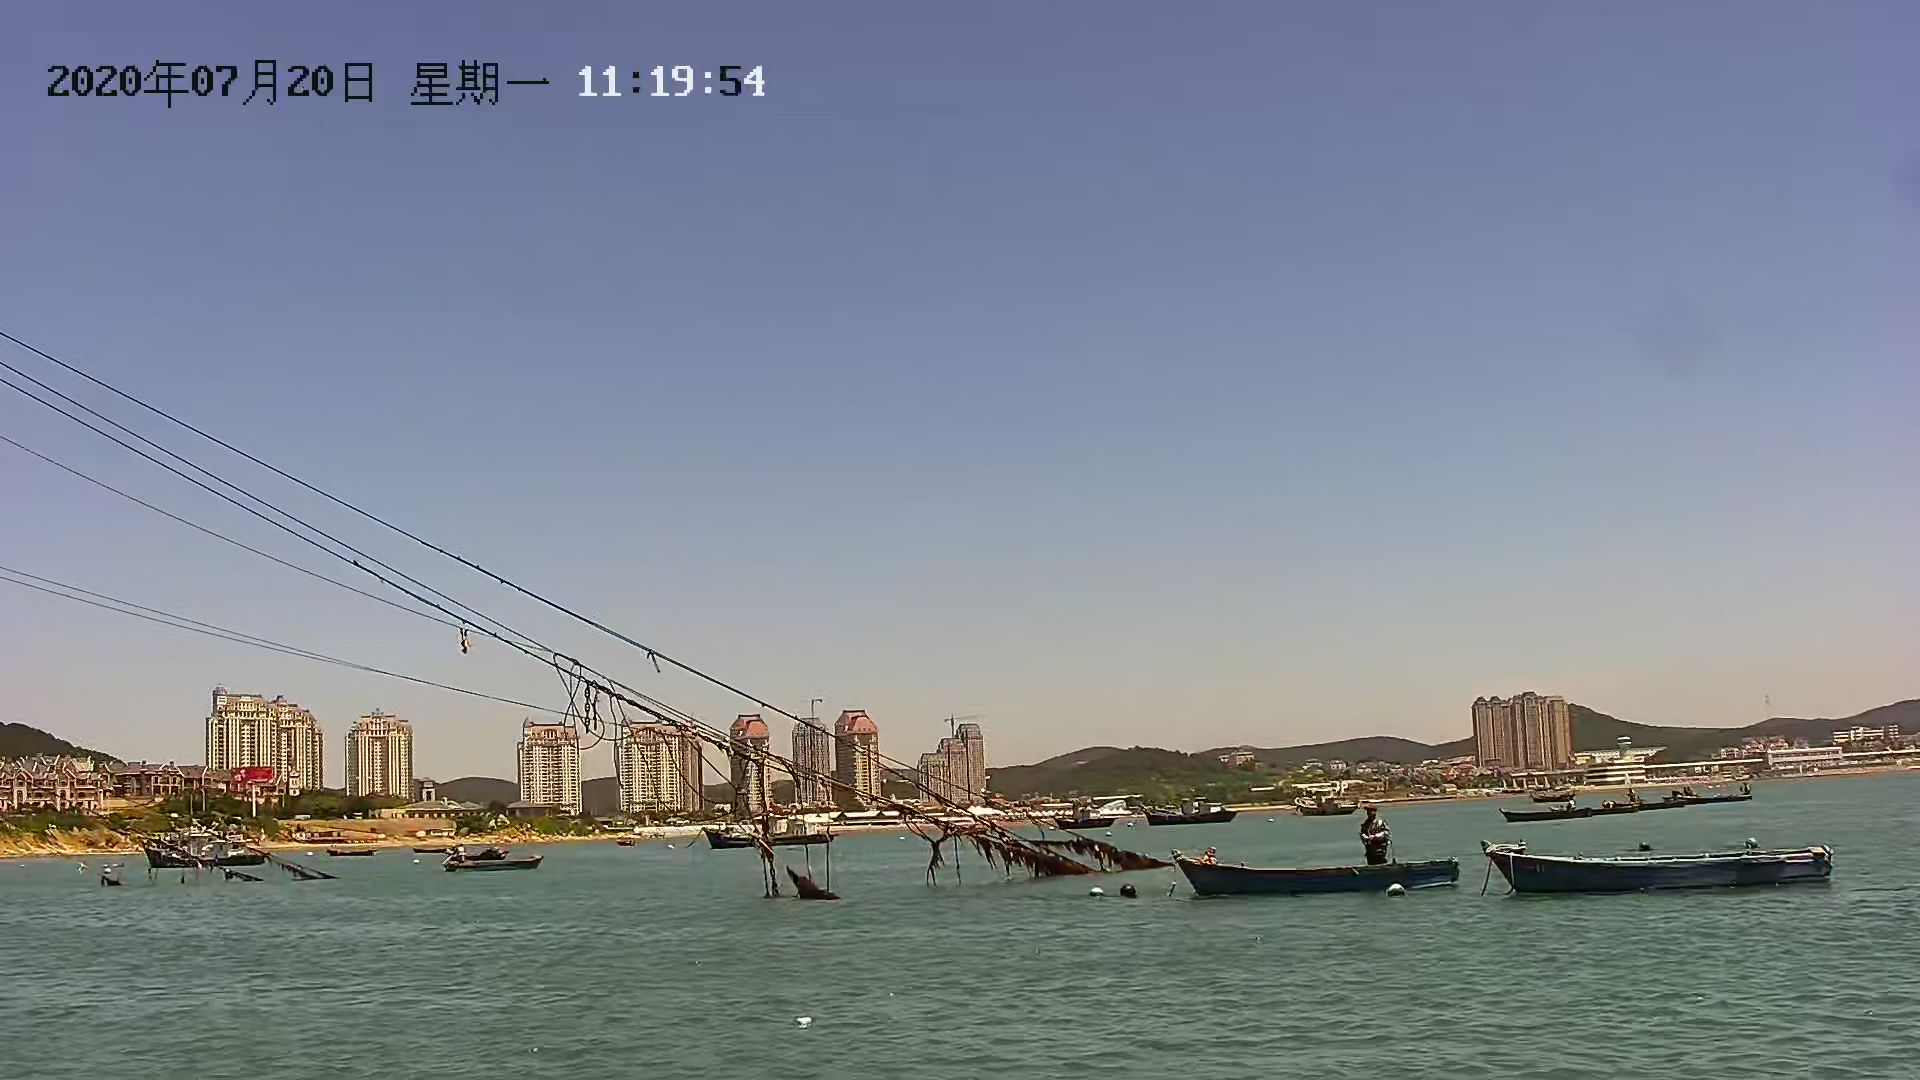boat: (1478, 835, 1840, 891), (1159, 842, 1463, 898), (1501, 796, 1762, 815), (140, 832, 274, 866), (692, 817, 840, 842), (1140, 804, 1245, 828), (438, 849, 543, 868), (1054, 809, 1122, 829), (1292, 796, 1362, 815)
person: (1355, 801, 1397, 860)
